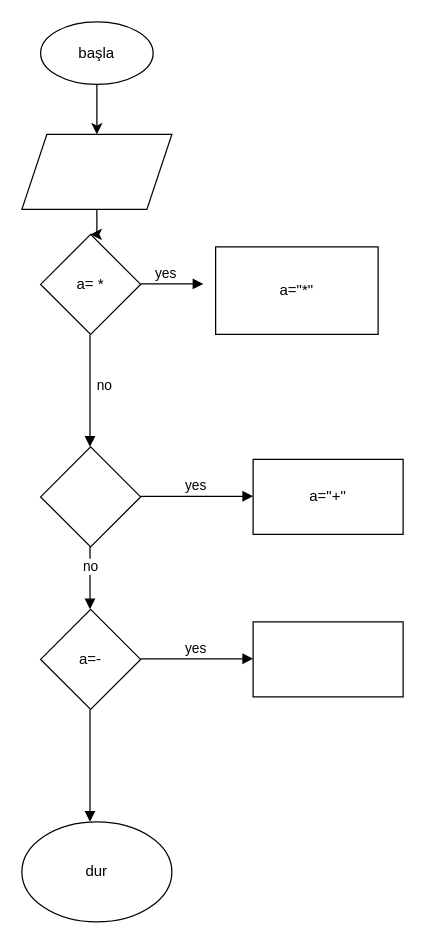
The diagram is 425 pixels wide and 944 high, and some of its shapes have lost their labels. The centre of each missing label's shape, as x and y in pixels:
a * - +: point (96, 171)
a="-": point (327, 659)
a=+: point (90, 496)
